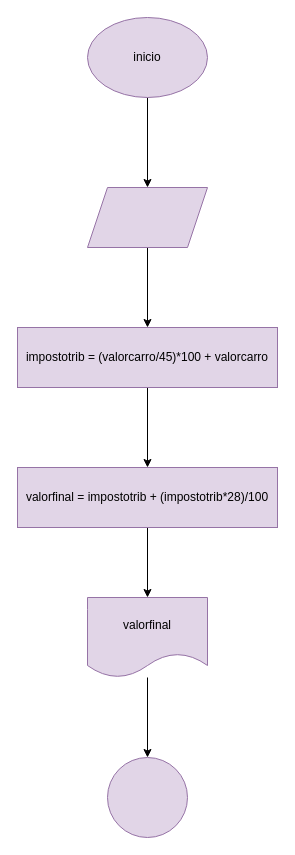
The diagram is 295 pixels wide and 855 high, and some of its shapes have lost their labels. The box of each missing label's shape, as (x1, y1, x2, y2) in pixels:
fim: (106, 756, 188, 838)
valorcarro: (86, 186, 208, 248)
